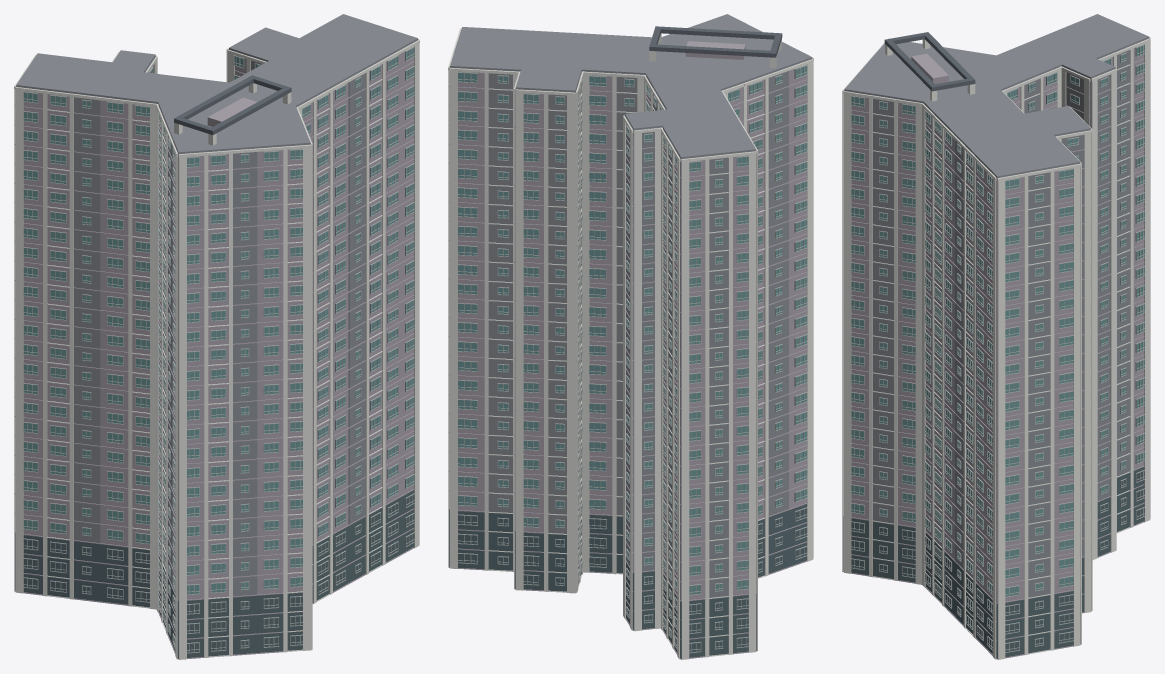
Rendered from bespoke-shinbanpo-xi-106.glb.
3 views of the same model, side by side, from view 1: azimuth 30°, elevation 25°; view 2: azimuth 150°, elevation 25°; view 3: azimuth 270°, elevation 25° (orthographic). The views are drawn at different scales.
Parts seen in each view (by area): view 1: SBX106_editable_SBX106_lavender_grey_metallic_panels, SBX106_editable_SBX106_white_vertical_frame, SBX106_editable_SBX106_grey_inset_service_walls, SBX106_editable_SBX106_thin_grey_window_mullions, SBX106_editable_SBX106_pale_teal_glazing, SBX106_editable_SBX106_dark_glazed_base, SBX106_editable_SBX106_broad_charcoal_roof_caps; view 2: SBX106_editable_SBX106_white_vertical_frame, SBX106_editable_SBX106_grey_inset_service_walls, SBX106_editable_SBX106_lavender_grey_metallic_panels, SBX106_editable_SBX106_thin_grey_window_mullions, SBX106_editable_SBX106_pale_teal_glazing, SBX106_editable_SBX106_dark_glazed_base, SBX106_editable_SBX106_broad_charcoal_roof_caps; view 3: SBX106_editable_SBX106_white_vertical_frame, SBX106_editable_SBX106_grey_inset_service_walls, SBX106_editable_SBX106_lavender_grey_metallic_panels, SBX106_editable_SBX106_thin_grey_window_mullions, SBX106_editable_SBX106_pale_teal_glazing, SBX106_editable_SBX106_dark_glazed_base, SBX106_editable_SBX106_broad_charcoal_roof_caps.
Part boxes in pixels (x1,y1,x2,y2): SBX106_editable_SBX106_lavender_grey_metallic_panels: (14, 40, 417, 659); SBX106_editable_SBX106_white_vertical_frame: (14, 39, 419, 659); SBX106_editable_SBX106_grey_inset_service_walls: (16, 14, 417, 596); SBX106_editable_SBX106_thin_grey_window_mullions: (23, 46, 414, 653); SBX106_editable_SBX106_pale_teal_glazing: (23, 48, 414, 594); SBX106_editable_SBX106_dark_glazed_base: (15, 490, 414, 659); SBX106_editable_SBX106_broad_charcoal_roof_caps: (174, 75, 291, 134); SBX106_editable_SBX106_white_vertical_frame: (448, 28, 813, 659); SBX106_editable_SBX106_grey_inset_service_walls: (450, 14, 812, 597); SBX106_editable_SBX106_lavender_grey_metallic_panels: (448, 41, 811, 659); SBX106_editable_SBX106_thin_grey_window_mullions: (458, 65, 808, 653); SBX106_editable_SBX106_pale_teal_glazing: (458, 66, 806, 594); SBX106_editable_SBX106_dark_glazed_base: (449, 504, 806, 659); SBX106_editable_SBX106_broad_charcoal_roof_caps: (649, 26, 782, 57); SBX106_editable_SBX106_white_vertical_frame: (842, 37, 1150, 659); SBX106_editable_SBX106_grey_inset_service_walls: (844, 14, 1149, 597); SBX106_editable_SBX106_lavender_grey_metallic_panels: (845, 38, 1148, 659); SBX106_editable_SBX106_thin_grey_window_mullions: (851, 44, 1144, 652); SBX106_editable_SBX106_pale_teal_glazing: (851, 45, 1144, 596); SBX106_editable_SBX106_dark_glazed_base: (843, 467, 1144, 659); SBX106_editable_SBX106_broad_charcoal_roof_caps: (884, 32, 975, 91).
Bounding box in the file's own units: 54.02 × 76.4 × 42.99.
